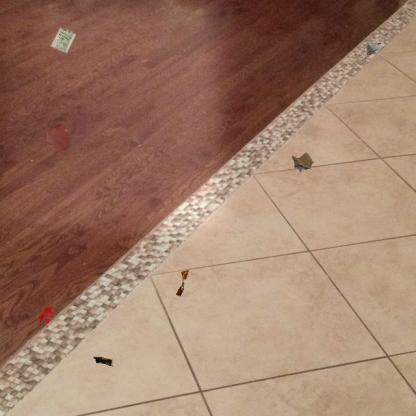dirty: (49, 25, 77, 56), (290, 150, 316, 175), (174, 268, 191, 298), (364, 40, 386, 57), (94, 355, 115, 368)
liquid: (45, 123, 71, 155), (37, 306, 55, 328)
